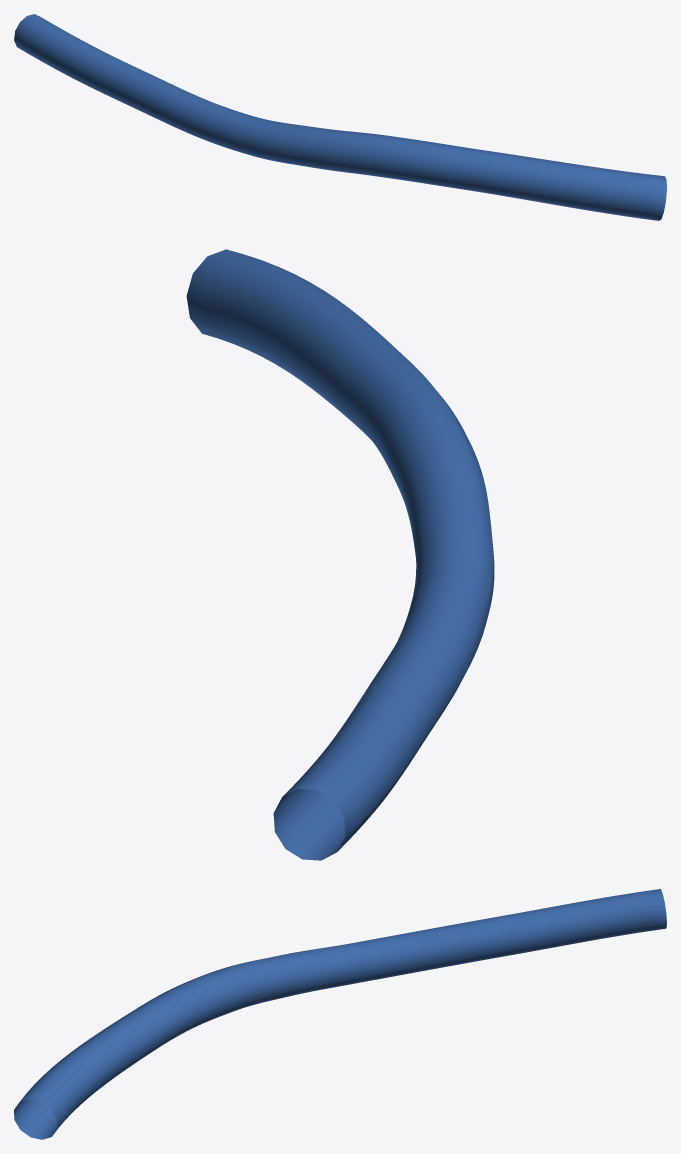
3 renders of one model, top to bottom at view 1: azimuth 30°, elevation 25°; view 2: azimuth 150°, elevation 25°; view 3: azimuth 270°, elevation 25°, orthographic. The views are drawn at different scales.
Parts seen in each view (by area): view 1: 右侧腋静脉; view 2: 右侧腋静脉; view 3: 右侧腋静脉.
Part boxes in pixels (<box>): 右侧腋静脉: <box>14,14,666,220</box>; 右侧腋静脉: <box>186,249,494,860</box>; 右侧腋静脉: <box>14,889,666,1139</box>.
Size of the model in its own units: 0.0952 by 0.0176 by 0.1395.
